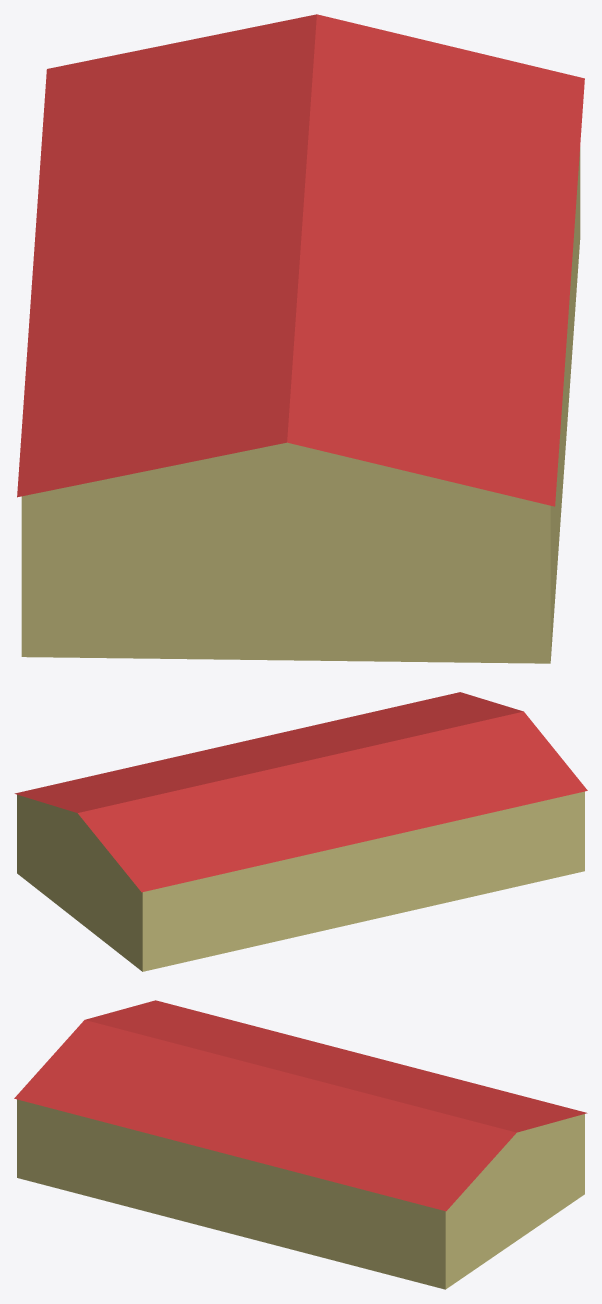
3 views of the same model, one above another, from view 1: azimuth 30°, elevation 25°; view 2: azimuth 150°, elevation 25°; view 3: azimuth 270°, elevation 25° (orthographic). The views are drawn at different scales.
Size of the model in its own units: 53.89 by 62.32 by 13.19.
